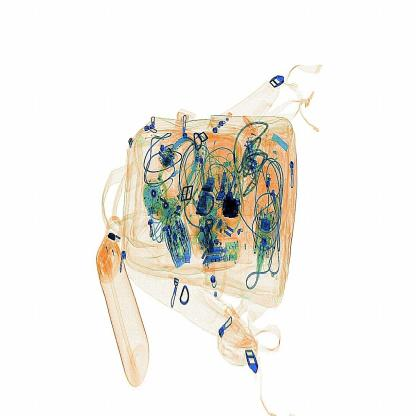scissors: (218, 183, 247, 228)
